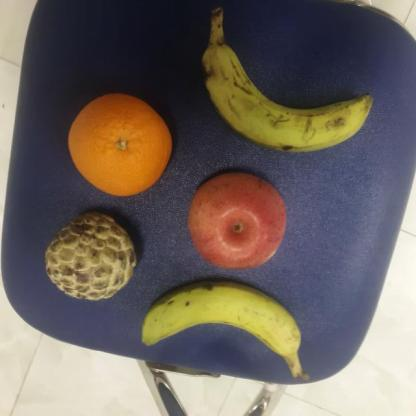annona: (42, 211, 140, 303)
apple: (189, 169, 290, 272)
banana: (200, 41, 374, 155), (141, 278, 306, 360)
orange: (64, 92, 176, 198)
